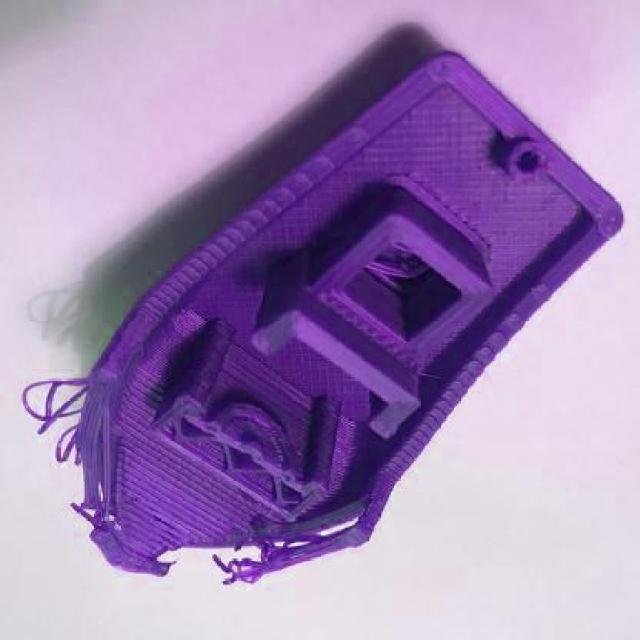Spaghetti: (16, 374, 98, 469), (206, 526, 299, 592)
